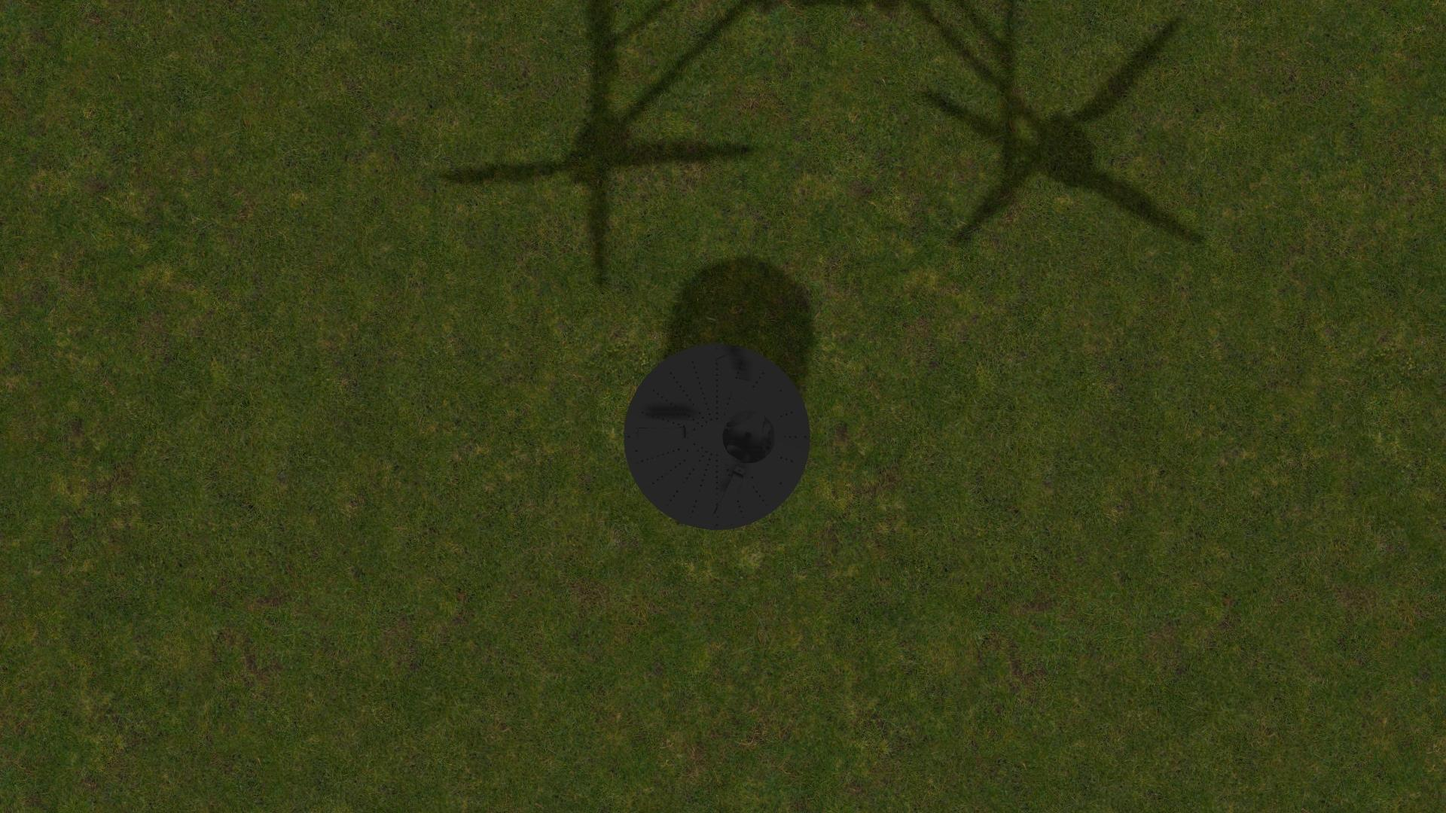alca: (711, 465, 746, 522), (713, 350, 747, 406), (634, 426, 692, 441)
armadilha: (624, 343, 811, 530)
